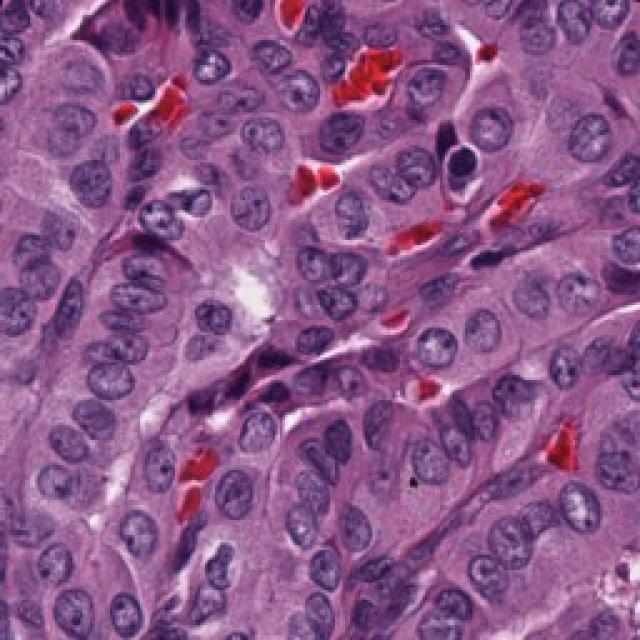abnormal: (428, 284, 520, 374), (58, 300, 159, 372), (554, 93, 628, 191), (359, 153, 443, 235), (393, 312, 469, 399), (395, 401, 461, 501), (276, 535, 370, 605), (191, 460, 274, 536), (260, 50, 346, 122), (166, 35, 242, 115), (97, 262, 187, 328), (325, 485, 395, 568), (220, 97, 300, 169), (68, 348, 152, 416), (52, 371, 114, 461), (545, 244, 614, 324), (129, 183, 203, 256), (476, 508, 547, 584), (106, 480, 162, 576), (214, 389, 293, 455), (547, 466, 619, 538), (453, 87, 524, 160), (211, 187, 285, 255), (372, 135, 456, 193), (14, 533, 84, 600), (318, 219, 370, 299), (273, 485, 335, 552), (470, 551, 526, 624), (509, 269, 560, 345), (279, 226, 342, 282), (141, 432, 189, 503), (68, 147, 114, 221), (105, 582, 156, 640), (55, 581, 102, 639)
